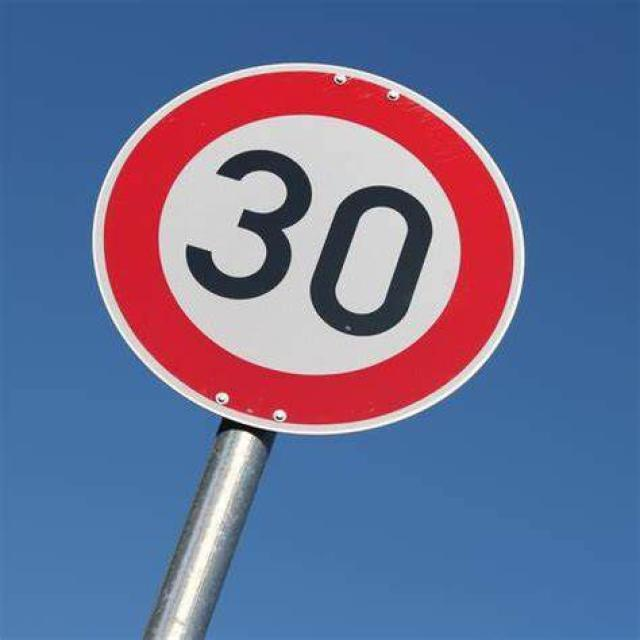speed limit 30: (87, 62, 533, 432)
